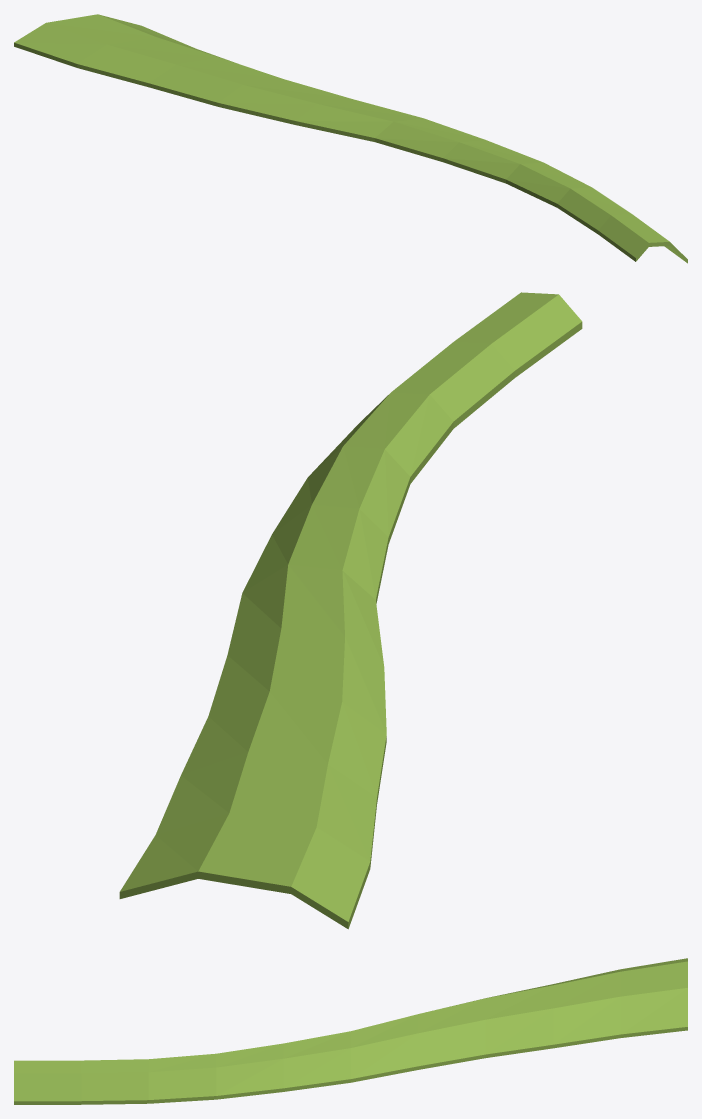
3 views of the same model, one above another, from view 1: azimuth 30°, elevation 25°; view 2: azimuth 150°, elevation 25°; view 3: azimuth 270°, elevation 25° (orthographic). The views are drawn at different scales.
Visible parts, largest first — view 1: 渐宽河口_左岸折纸.001; view 2: 渐宽河口_左岸折纸.001; view 3: 渐宽河口_左岸折纸.001.
Boxes of the visible parts, x1,y1,x2,y2 form: 渐宽河口_左岸折纸.001: (14, 14, 687, 263); 渐宽河口_左岸折纸.001: (119, 292, 582, 929); 渐宽河口_左岸折纸.001: (14, 958, 687, 1104).
Bounding box in the file's own units: 0.914 × 0.089 × 2.
